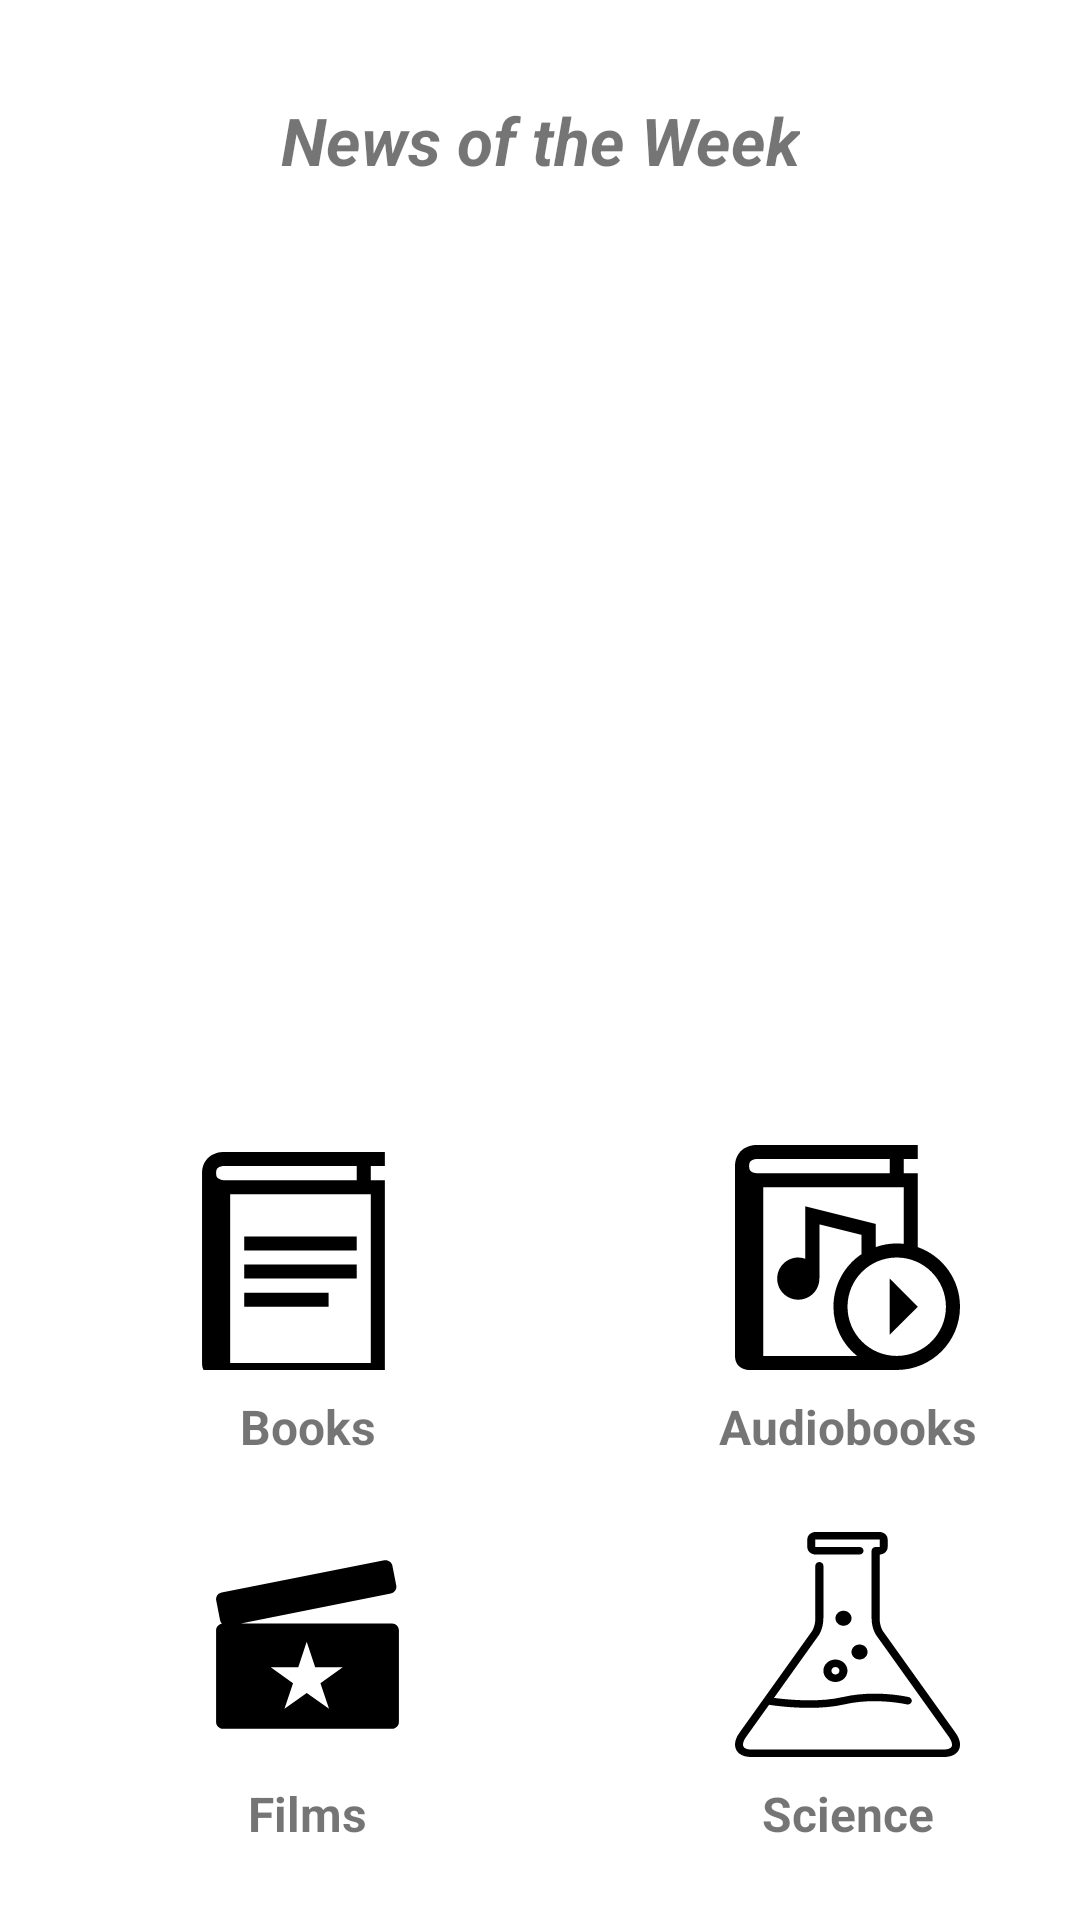

Named icons in this screenshot (1080px×1920px) and their bounding boxes, [x1=x1, y1=y1, x2=x2, y2=y2]:
movie: [x1=216, y1=1560, x2=399, y2=1729]
